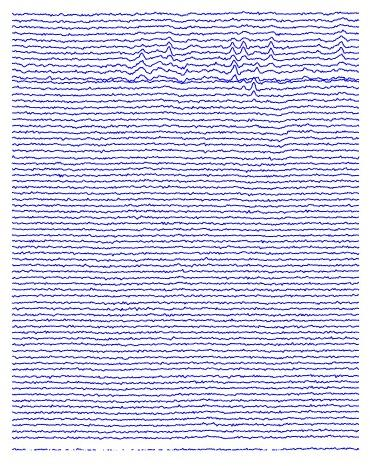defect: (132, 40, 151, 83), (336, 19, 350, 68), (227, 36, 237, 79), (262, 41, 279, 63), (247, 75, 258, 107), (164, 33, 174, 61), (239, 38, 247, 58)
